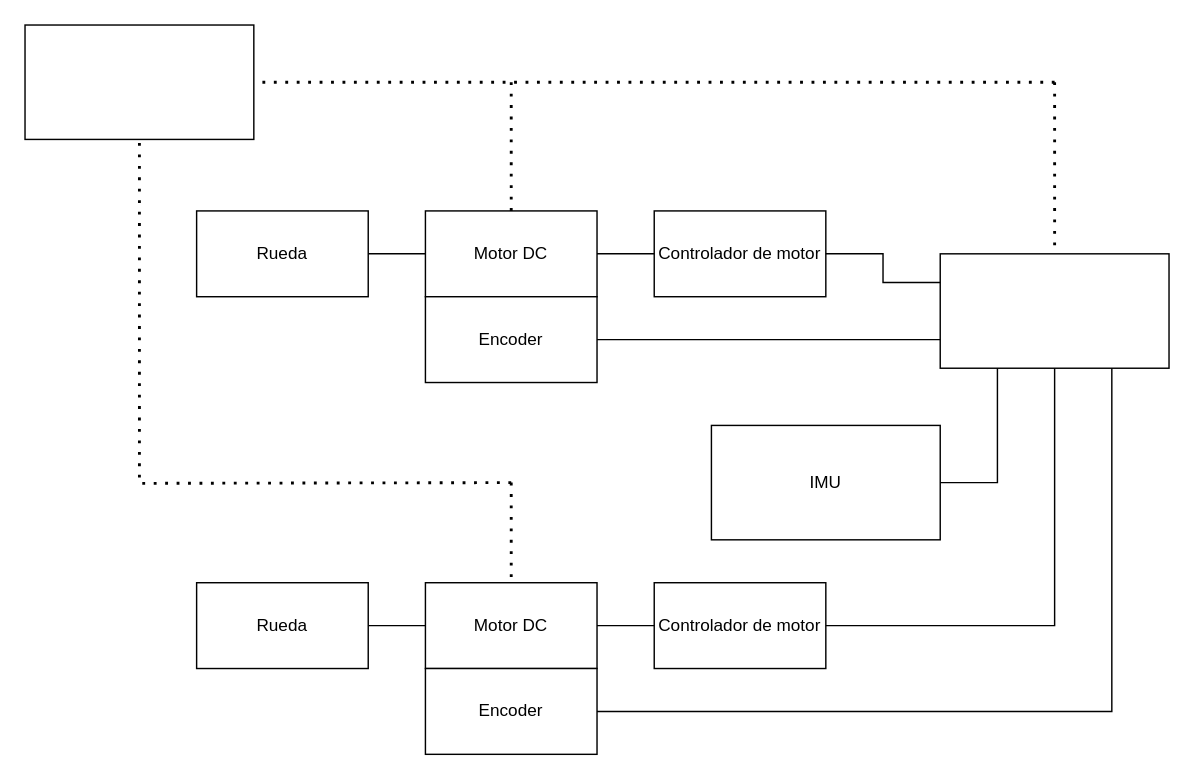
The diagram is 1194 pixels wide and 779 high, and some of its shapes have lost their labels. The shapes that lost their labels are listed below. From the top down, each one's centre as x and y in pixels, then its label:
(139,81): Fuente de alimentacion
(1054,310): ESP32
